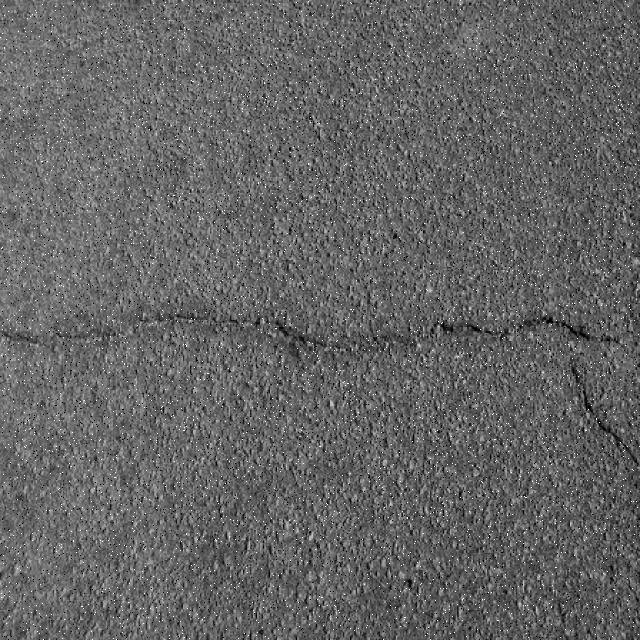Crack: (102, 316, 624, 356), (569, 364, 638, 463), (2, 334, 98, 347)
